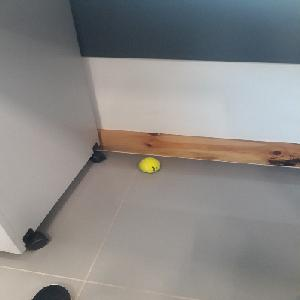Ball: (139, 158, 158, 172)
